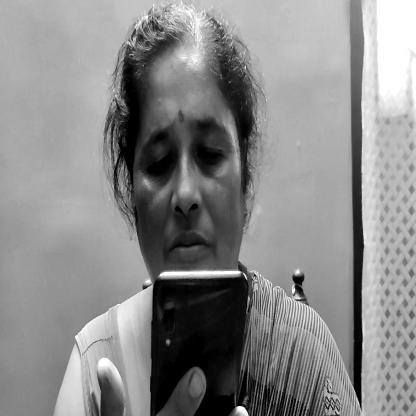Distracted: (118, 20, 258, 291)
